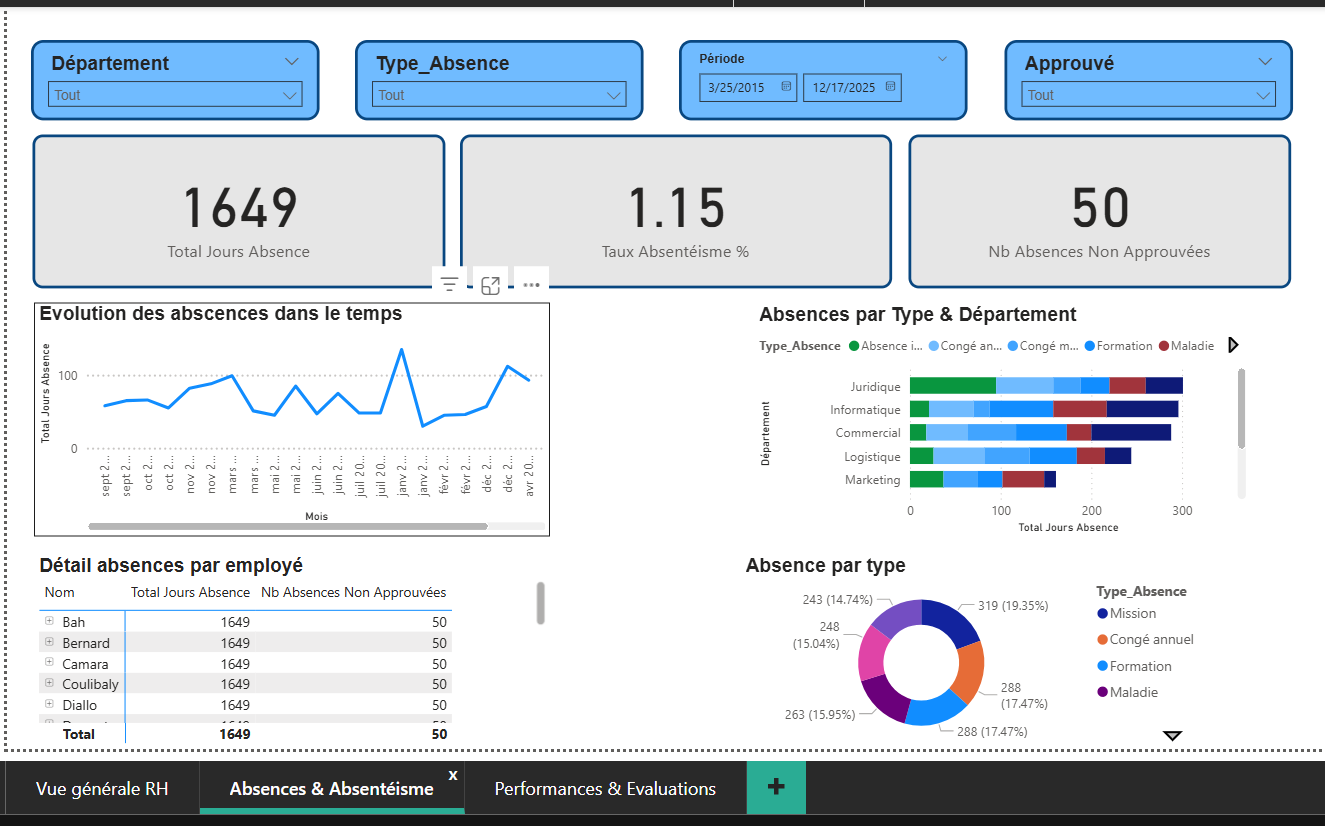

What the dashboard file says about the page in this screenshot:
{"tool":"powerbi","page":{"name":"Absences & Absentéisme","canvas":[1280,720],"ordinal":1},"visuals":[{"type":"slicer","fields":{"Values":["Employes.Département"]},"box":[23.2,31.5,279.9,77.9],"z":0},{"type":"slicer","fields":{"Values":["Absences.Type_Absence"]},"box":[337.9,31.5,279.9,77.9],"z":1000},{"type":"slicer","fields":{"Values":["Calendrier.Date"]},"box":[652.7,31.5,279.9,77.9],"z":2000},{"type":"slicer","fields":{"Values":["Absences.Approuvé"]},"box":[967.4,31.5,279.9,77.9],"z":3000},{"type":"card","fields":{"Values":["_Mesures.Total Jours Absence"]},"box":[24.3,123.1,400.9,149.1],"z":4000},{"type":"card","fields":{"Values":["_Mesures.Nb Absences Non Approuvées"]},"box":[874.1,123.1,371.1,149.1],"z":5000},{"type":"card","fields":{"Values":["_Mesures.Taux Absentéisme %"]},"box":[440.1,123.1,419.1,149.1],"z":6000},{"type":"lineChart","title":"Evolution des abscences dans le temps","fields":{"Category":["Calendrier.Mois"],"Y":["_Mesures.Total Jours Absence"]},"box":[25.5,287.2,501.2,226],"z":7000},{"type":"barChart","title":"Absences par Type & Département","fields":{"Category":["Absences.Département"],"Y":["_Mesures.Total Jours Absence"],"Series":["Absences.Type_Absence"]},"box":[725.5,288.2,482,226.9],"z":8000},{"type":"pivotTable","title":"Détail absences par employé","fields":{"Rows":["Employes.Nom","Employes.Département"],"Values":["_Mesures.Total Jours Absence","_Mesures.Nb Absences Non Approuvées"]},"box":[25.5,531.8,501.2,188.6],"z":9000},{"type":"donutChart","title":"Absence par type","fields":{"Category":["Absences.Type_Absence"],"Y":["_Mesures.Total Jours Absence"]},"box":[711.9,531.8,496.1,188.6],"z":10000}]}

Visuals, with their boxes on the page's 1280x720 design canvas (x1, y1, x2, y2). These are canvas units, not pixel positions in the 1325x826 screenshot, which may show the page scaled, cropped or inside an application window:
slicer - Employes.Département: x1=23 y1=32 x2=303 y2=109
slicer - Absences.Type_Absence: x1=338 y1=32 x2=618 y2=109
slicer - Calendrier.Date: x1=653 y1=32 x2=933 y2=109
slicer - Absences.Approuvé: x1=967 y1=32 x2=1247 y2=109
card - _Mesures.Total Jours Absence: x1=24 y1=123 x2=425 y2=272
card - _Mesures.Nb Absences Non Approuvées: x1=874 y1=123 x2=1245 y2=272
card - _Mesures.Taux Absentéisme %: x1=440 y1=123 x2=859 y2=272
"Evolution des abscences dans le temps" lineChart: x1=26 y1=287 x2=527 y2=513
"Absences par Type & Département" barChart: x1=726 y1=288 x2=1208 y2=515
"Détail absences par employé" pivotTable: x1=26 y1=532 x2=527 y2=720
"Absence par type" donutChart: x1=712 y1=532 x2=1208 y2=720
